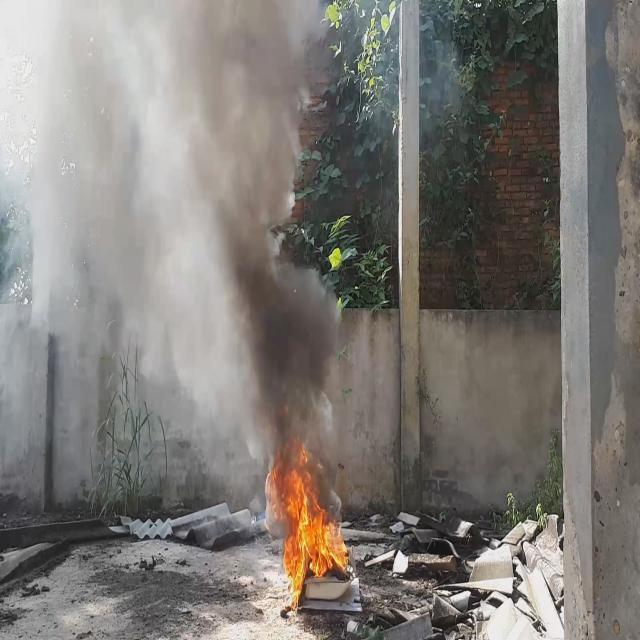Fire: (271, 428, 351, 614)
Smoke: (0, 0, 341, 467)
